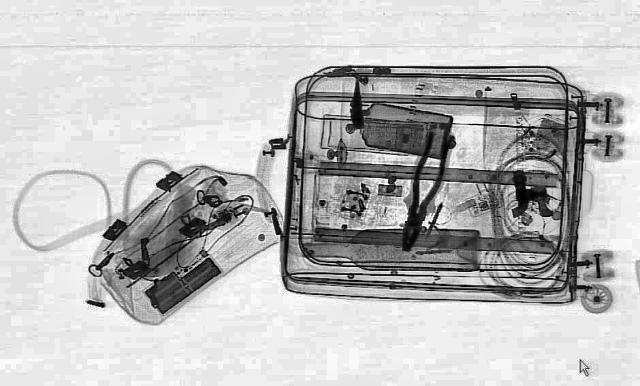Pliers: (391, 127, 457, 252)
